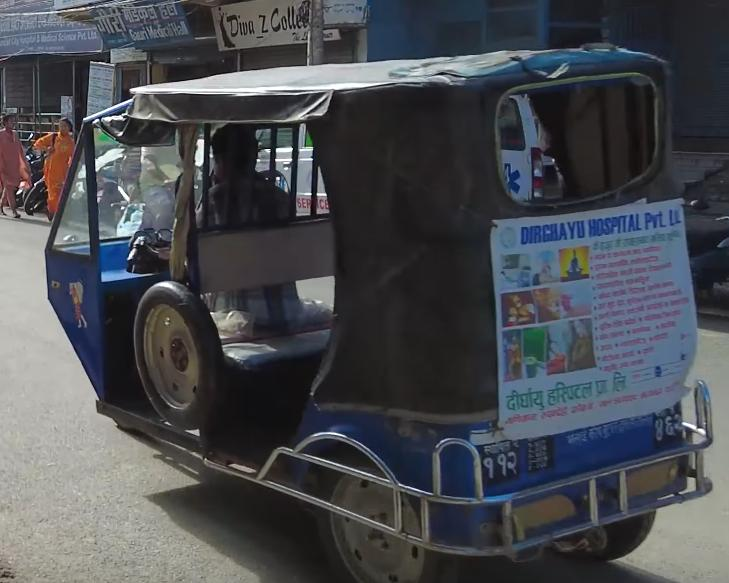e-rickshaw: (42, 43, 712, 583)
